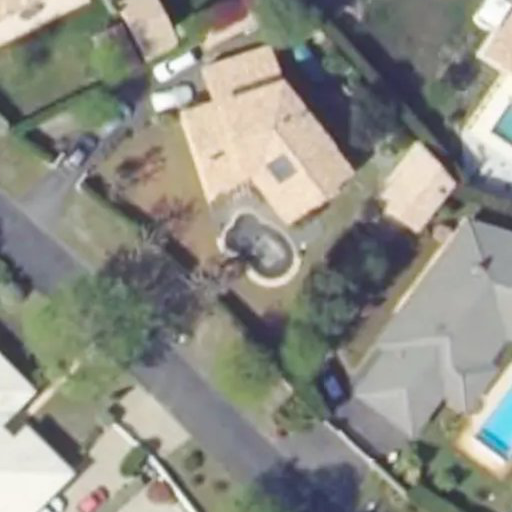pool: (211, 236, 304, 245)
